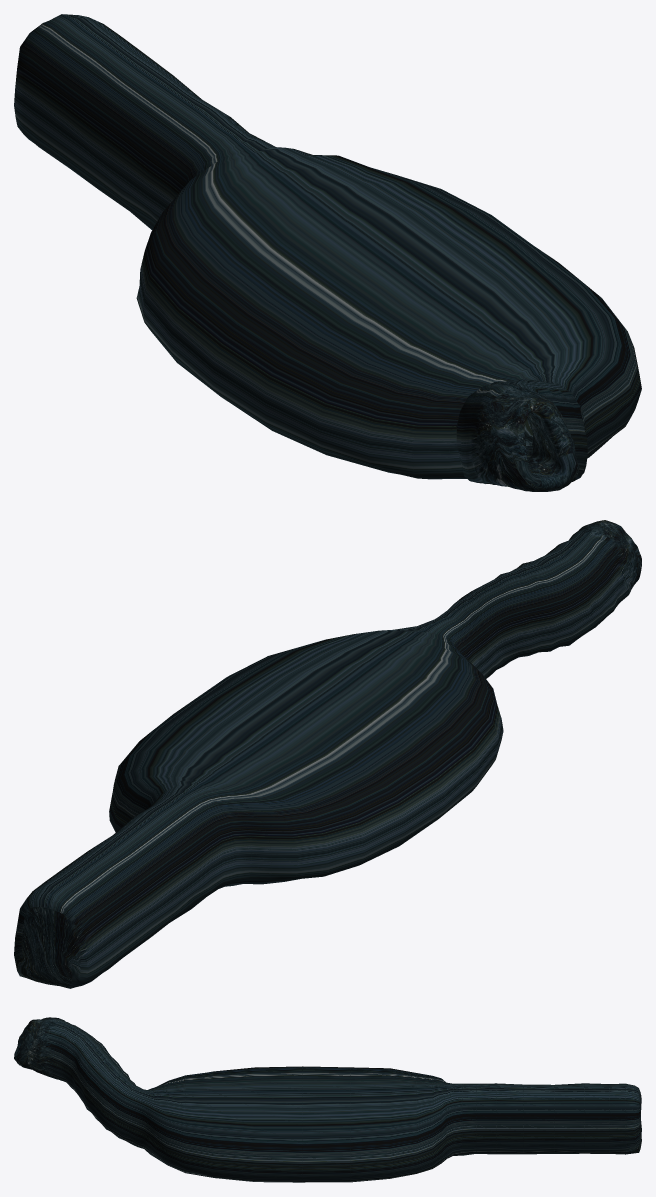
The model's file is presentation_cave.glb.
The picture shows the model from 3 angles, top to bottom: view 1: azimuth 30°, elevation 25°; view 2: azimuth 150°, elevation 25°; view 3: azimuth 270°, elevation 25°; orthographic projection. The views are drawn at different scales.
Parts seen in each view (by area): view 1: PresentationCave-Col; view 2: PresentationCave-Col; view 3: PresentationCave-Col.
Boxes of the visible parts, x1,y1,x2,y2 form: PresentationCave-Col: (14,14,641,491); PresentationCave-Col: (14,520,641,988); PresentationCave-Col: (14,1017,641,1182).
Size of the model in its own units: 35.33 by 18.19 by 107.
1 material, 1 textured.
